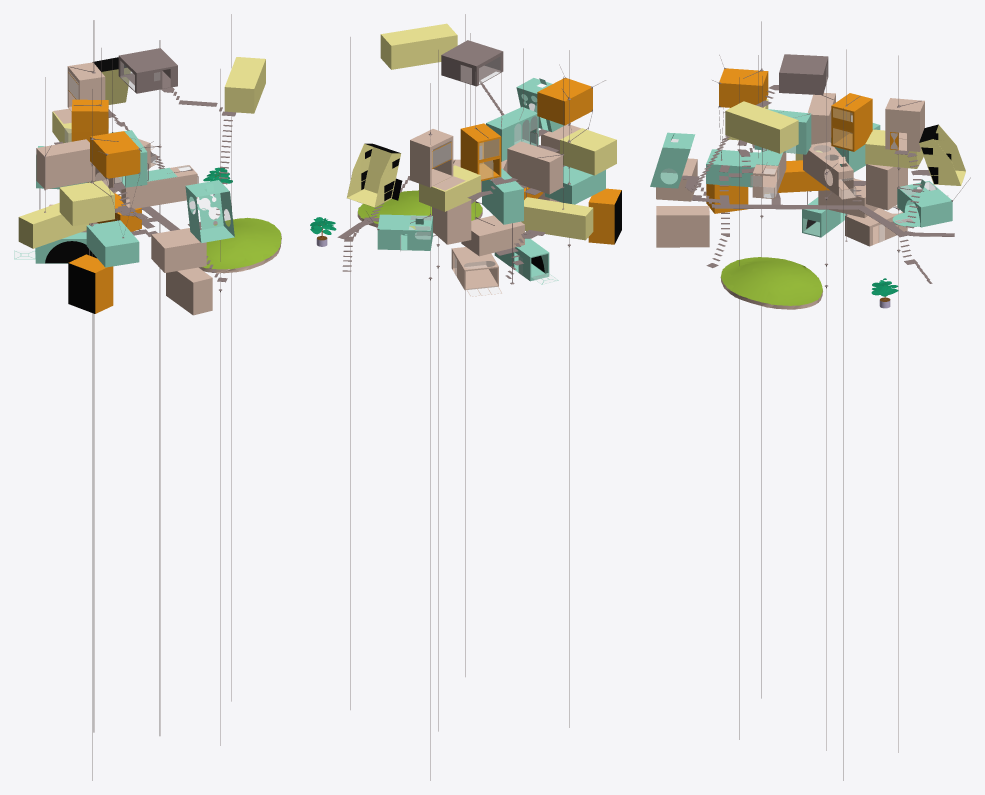
File: Neighborhood-1.glb
3 views of the same model, side by side, from view 1: azimuth 30°, elevation 25°; view 2: azimuth 150°, elevation 25°; view 3: azimuth 270°, elevation 25° (orthographic). The views are drawn at different scales.
Visible parts, largest first — view 1: Cables, Garden, Dwelling.010, Dwelling.021, Dwelling, Dwelling.024, Dwelling.012, Dwelling.009, Dwelling.014, Dwelling.004, Dwelling.013, Stairs (+12 smaller); view 2: Cables, Dwelling.022, Dwelling.014, Dwelling.019, Dwelling.020, Dwelling.021, Dwelling.024, Dwelling.012, Dwelling.013, Dwelling.018, Dwelling.023, Dwelling.011 (+12 smaller); view 3: Stairs, Garden, Cables, Dwelling.014, Dwelling.015, Dwelling.023, Dwelling.018, Dwelling.019, Dwelling.022, Dwelling.008, Dwelling.024, Dwelling.013 (+14 smaller).
Part boxes in pixels (box(x1,y1,x2,y2)): Cables: box(70, 14, 231, 780); Garden: box(199, 218, 281, 273); Dwelling.010: box(185, 180, 234, 242); Dwelling.021: box(36, 139, 95, 189); Dwelling: box(68, 254, 113, 313); Dwelling.024: box(118, 48, 177, 93); Dwelling.012: box(59, 180, 114, 226); Dwelling.009: box(151, 228, 206, 272); Dwelling.014: box(224, 57, 265, 113); Dwelling.004: box(86, 220, 139, 267); Dwelling.013: box(90, 131, 140, 178); Stairs: box(54, 87, 236, 282); Cables: box(350, 14, 588, 780); Dwelling.022: box(347, 143, 402, 207); Dwelling.014: box(380, 23, 457, 69); Dwelling.019: box(410, 129, 465, 190); Dwelling.020: box(521, 197, 593, 240); Dwelling.021: box(507, 141, 562, 194); Dwelling.024: box(441, 40, 503, 86); Dwelling.012: box(560, 128, 616, 175); Dwelling.013: box(537, 78, 592, 125); Dwelling.018: box(460, 123, 501, 181); Dwelling.023: box(377, 214, 432, 251); Dwelling.011: box(451, 247, 501, 296); Stairs: box(681, 85, 954, 283); Garden: box(721, 257, 822, 309); Cables: box(723, 21, 923, 780); Dwelling.014: box(725, 101, 798, 153); Dwelling.015: box(656, 206, 709, 247); Dwelling.023: box(892, 179, 952, 227); Dwelling.018: box(831, 93, 872, 151); Dwelling.019: box(885, 98, 924, 151); Dwelling.022: box(919, 124, 965, 185); Dwelling.008: box(803, 142, 856, 199); Dwelling.024: box(779, 54, 828, 95); Dwelling.013: box(719, 68, 768, 107).
Size of what is drawn, in the model's own units: 31.33 by 86.89 by 36.22.
